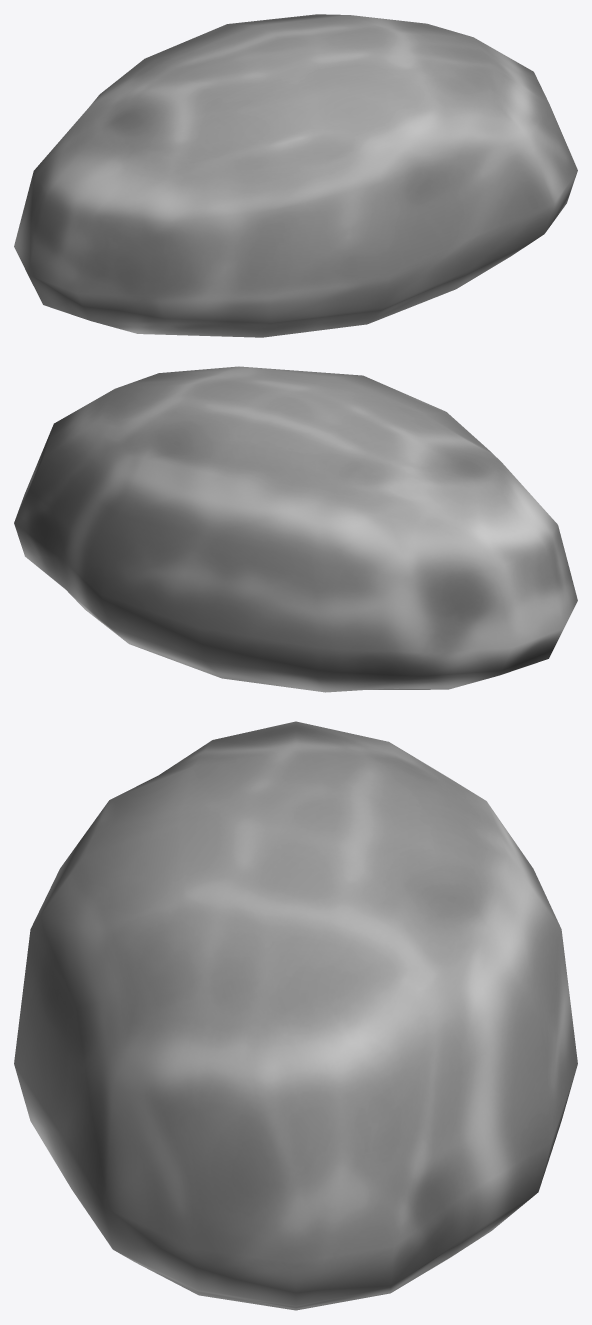
The model's file is roca5.fbx.
3 renders of one model, top to bottom at view 1: azimuth 30°, elevation 25°; view 2: azimuth 150°, elevation 25°; view 3: azimuth 270°, elevation 25°, orthographic. The views are drawn at different scales.
Visible parts, largest first — view 1: roca5; view 2: roca5; view 3: roca5.
Part boxes in pixels (<box>): roca5: <box>14,14,577,337</box>; roca5: <box>14,366,577,692</box>; roca5: <box>14,721,577,1310</box>.
Size of the model in its own units: 12.03 by 5.4 by 7.12.
